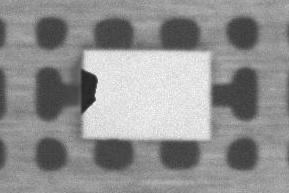DIE_BROKEN: (78, 65, 98, 113)
